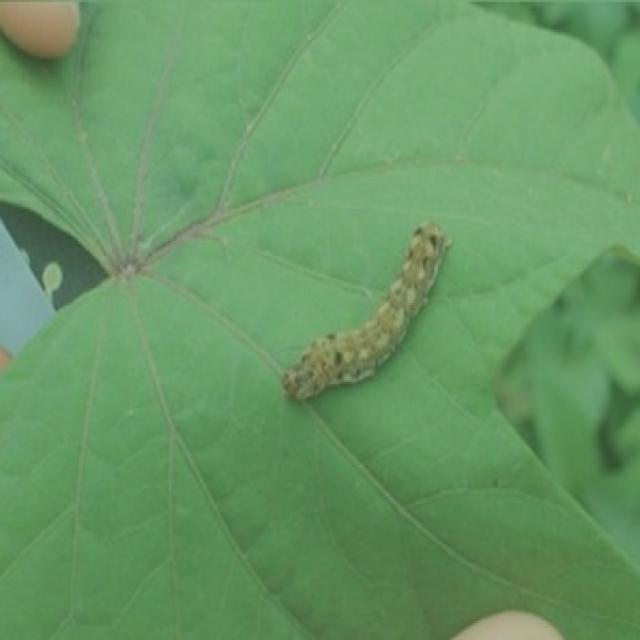armyworm: (279, 218, 452, 403)
